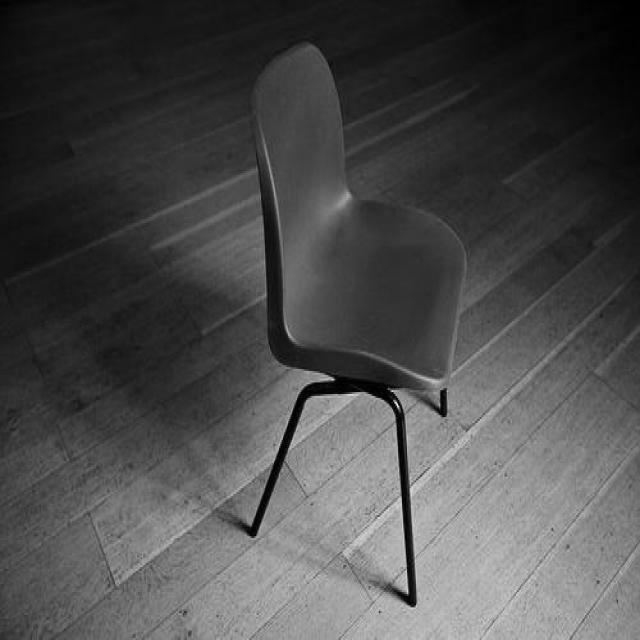chair: (243, 41, 468, 606)
